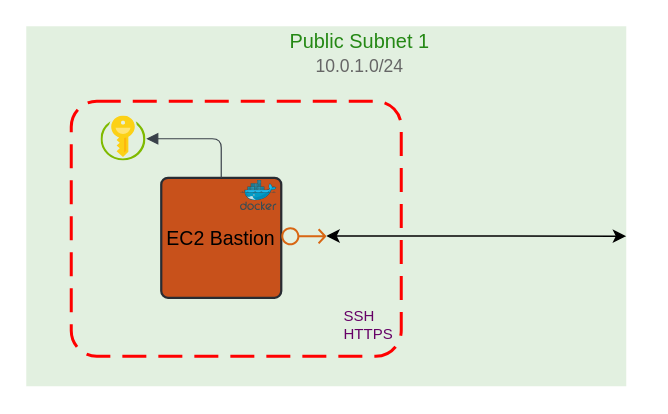
The diagram is 668 pixels wide and 414 high, and some of its shapes have lost their labels. The centre of each missing label's shape, as x and y in pixels:
"EIP" goes at [303,235].
"Key Pair" goes at [123,138].
